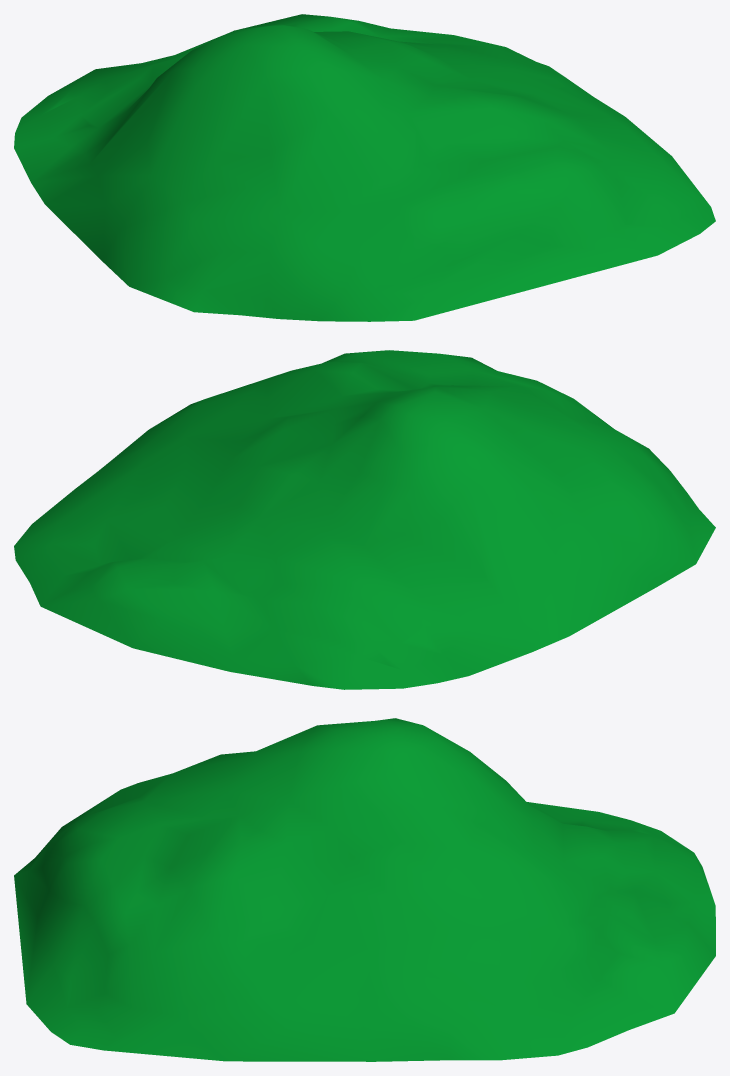
The model's file is Hill1.fbx.
3 renders of one model, top to bottom at view 1: azimuth 30°, elevation 25°; view 2: azimuth 150°, elevation 25°; view 3: azimuth 270°, elevation 25°, orthographic. The views are drawn at different scales.
Parts seen in each view (by area): view 1: Hill1; view 2: Hill1; view 3: Hill1.
Part boxes in pixels (x1,y1,x2,y2): Hill1: (14,14,715,321); Hill1: (14,350,715,689); Hill1: (14,718,715,1061).
Bounding box in the file's own units: 19.65 × 20.92 × 5.35.
